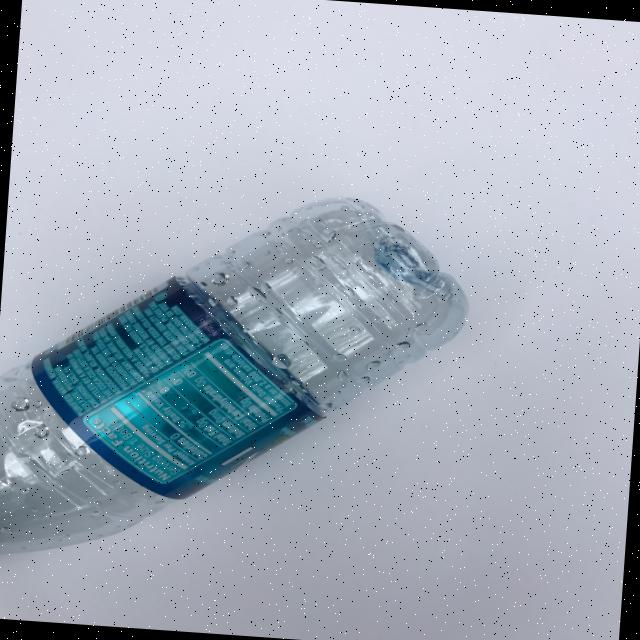plastic: (0, 172, 476, 587)
